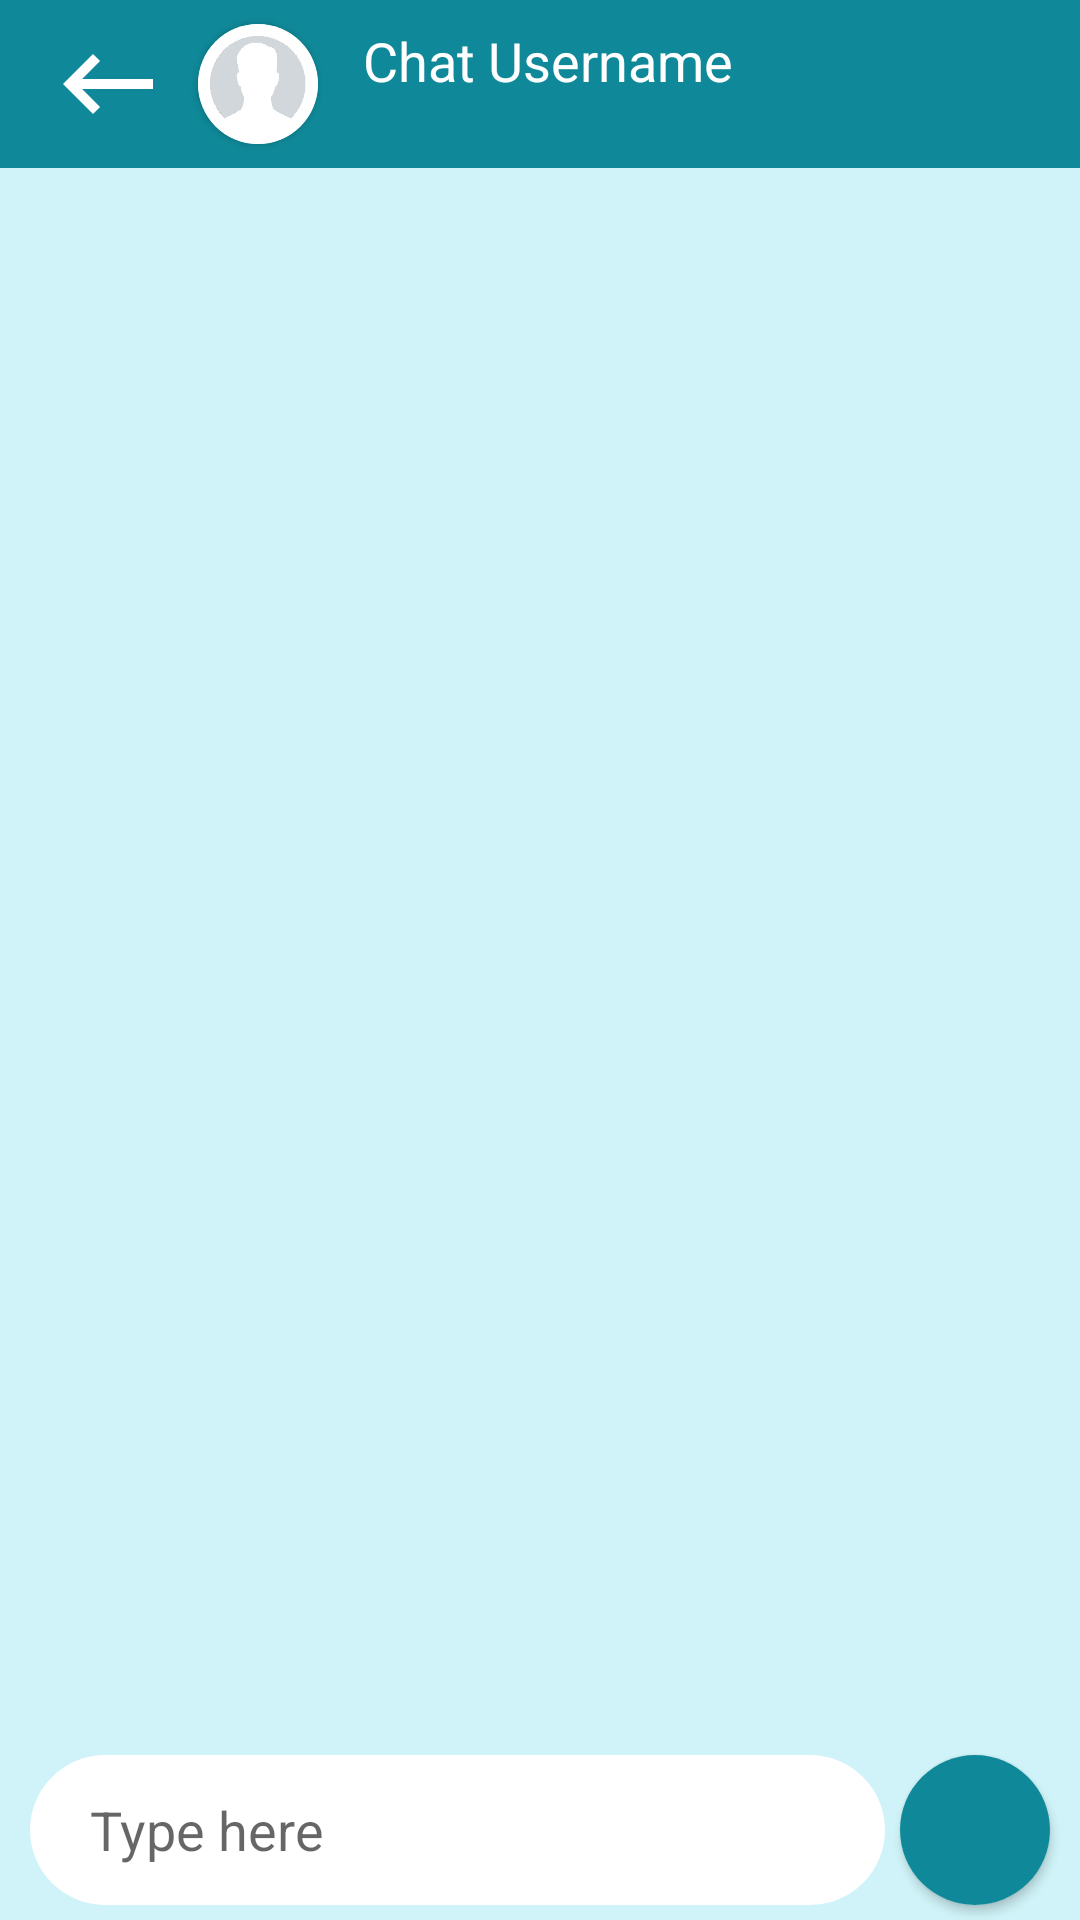

Named icons in this screenshot (1080w x 1920h) and their centers, [x,y]:
keyboard backspace: [108,84]
person: [258,84]
